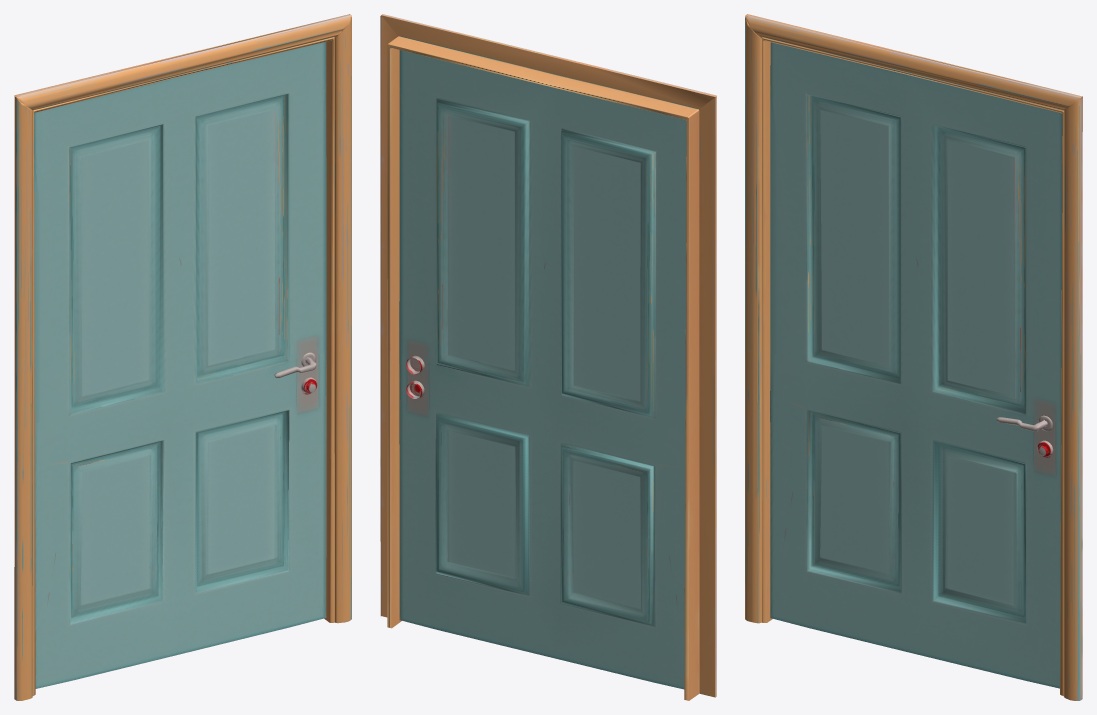
File: KIT_wall_door.glb
The picture shows the model from 3 angles, left to right: view 1: azimuth 30°, elevation 25°; view 2: azimuth 150°, elevation 25°; view 3: azimuth 330°, elevation 25°; orthographic projection.
Bounding box in the file's own units: 0.5537 × 0.9517 × 0.0459.
Materials: 1 (1 with a texture image).
